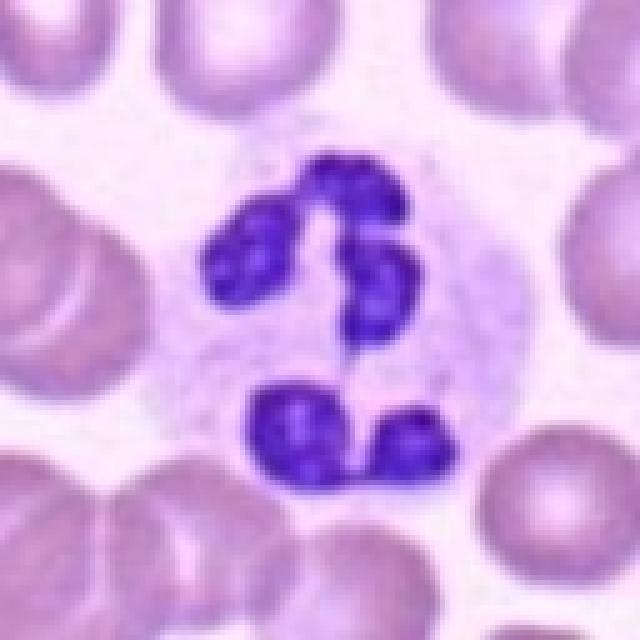neutro: (90, 105, 586, 574)
